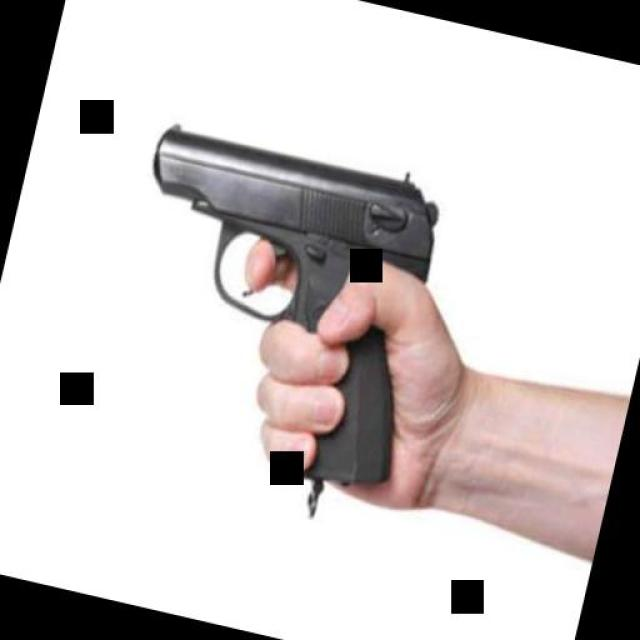gun: (89, 114, 460, 498)
